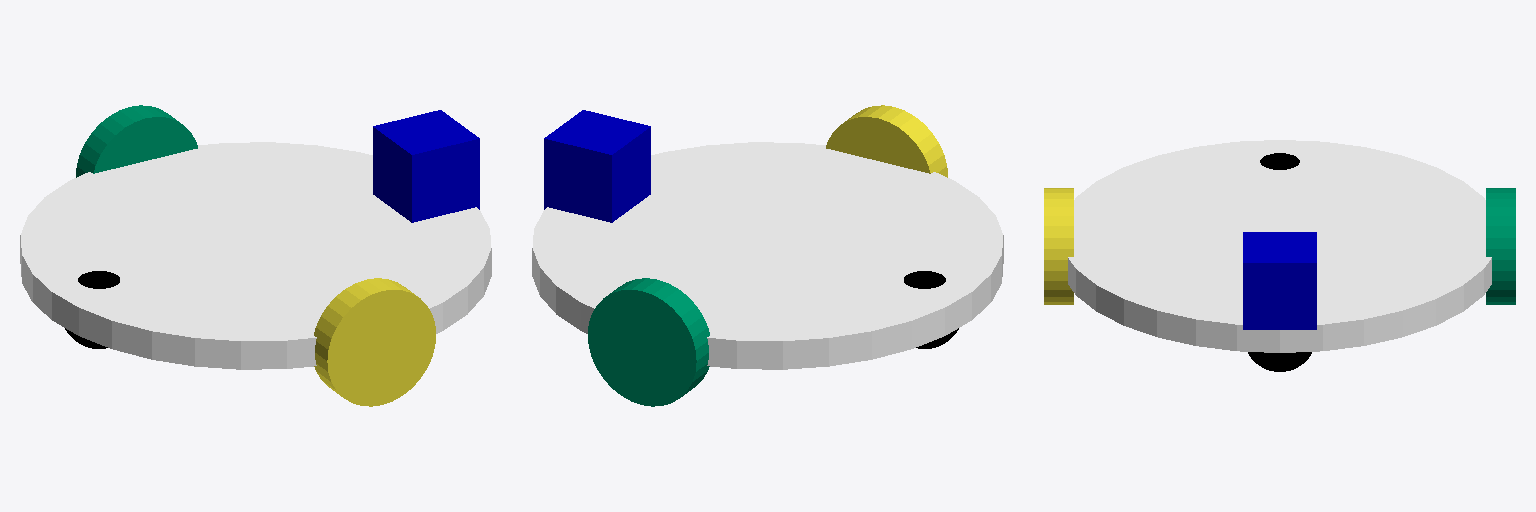
The robot description file, URDF, robot "differential_wheeled_robot":
<?xml version="1.0" ?>
<!-- =================================================================================== -->
<!-- |    This document was autogenerated by xacro from diff_wheeled_robot.xacro       | -->
<!-- |    EDITING THIS FILE BY HAND IS NOT RECOMMENDED                                 | -->
<!-- =================================================================================== -->
<robot name="differential_wheeled_robot" xmlns:xacro="http://www.ros.org/wiki/xacro">
  <!-- Wheels -->
  <!-- in kg-->
  <!-- Defining the colors used in this robot -->
  <material name="Black">
      <color rgba="0.0 0.0 0.0 1.0"/>
  </material>
  <material name="Red">
      <color rgba="0.8 0.0 0.0 1.0"/>
  </material>
  <material name="White">
      <color rgba="1.0 1.0 1.0 1.0"/>
  </material>
  <material name="Blue">
      <color rgba="0.0 0.0 0.8 1.0"/>
  </material>
  <!-- PROPERTY LIST -->
  <!--All units in m-kg-s-radians unit system -->
  <!-- Main body radius and height -->
  <!-- Main Body Cylinder base   -->
  <!-- in kg-->
  <!-- caster wheel radius and height -->
  <!-- caster wheel mass -->
  <!-- in kg-->
  <!-- caster wheel radius and height -->
  <!-- caster wheel mass -->
  <!-- in kg-->
  <!-- Wheels -->
  --&gt; 
  <!-- in kg-->
  <!-- Hokuyo Laser scanner -->
  <!-- Macro for calculating inertia of cylinder -->
  <!-- BASE-FOOTPRINT -->
  <!-- base_footprint is a fictitious link(frame) that is on the ground right below base_link origin -->
  <link name="base_footprint">
      <inertial>
          <mass value="0.0001"/>
          <origin xyz="0 0 0"/>
          <inertia ixx="0.0001" ixy="0.0" ixz="0.0" iyy="0.0001" iyz="0.0" izz="0.0001"/>
      </inertial>
      <visual>
          <origin rpy="0 0 0" xyz="0 0 0"/>
          <geometry>
              <box size="0.001 0.001 0.001"/>
          </geometry>
      </visual>
  </link>
  <gazebo reference="base_footprint">
      <turnGravityOff>false</turnGravityOff>
  </gazebo>
  <joint name="base_footprint_joint" type="fixed">
      <origin rpy="0 0 0" xyz="0 0 0.04"/>
      <parent link="base_footprint"/>
      <child link="base_link"/>
  </joint>
  <!-- BASE-LINK -->
  <!--Actual body/chassis of the robot-->
  <link name="base_link">
      <inertial>
          <mass value="5"/>
          <origin xyz="0 0 0"/>
          <!--The 3x3 rotational inertia matrix. -->
          <inertia ixx="0.0282916666667" ixy="0" ixz="0" iyy="0.0282916666667" iyz="0" izz="0.05625"/>
      </inertial>
      <visual>
          <origin rpy="0 0 0" xyz="0 0 0"/>
          <geometry>
              <cylinder length="0.02" radius="0.15"/>
          </geometry>
          <material name="White"/>
      </visual>
      <collision>
          <origin rpy="0 0 0 " xyz="0 0 0"/>
          <geometry>
              <cylinder length="0.02" radius="0.15"/>
          </geometry>
      </collision>
  </link>
  <gazebo reference="base_link">
      <material>Gazebo/White</material>
      <turnGravityOff>false</turnGravityOff>
  </gazebo>
  <!--fb : front, back ; lr: left, right -->
  <link name="front_right_wheel">
      <visual>
          <origin rpy="1.57079632679 0  0 " xyz="0 0 0"/>
          <geometry>
              <cylinder length="0.02" radius="0.04"/>
          </geometry>
          <material name="DarkGray"/>
      </visual>
      <collision>
          <origin rpy="1.57079632679 0 0 " xyz="0 0 0"/>
          <geometry>
              <cylinder length="0.02" radius="0.04"/>
          </geometry>
      </collision>
      <inertial>
          <mass value="2.5"/>
          <origin xyz="0 0 0"/>
          <inertia ixx="0.00108333333333" ixy="0" ixz="0" iyy="0.00108333333333" iyz="0" izz="0.002"/>
      </inertial>
  </link>
  <gazebo reference="front_right_wheel">
      <mu1 value="1.0"/>
      <mu2 value="1.0"/>
      <kp value="10000000.0"/>
      <kd value="1.0"/>
      <fdir1 value="1 0 0"/>
      <material>Gazebo/Grey</material>
      <turnGravityOff>false</turnGravityOff>
  </gazebo>
  <joint name="front_right_wheel_joint" type="continuous">
      <parent link="base_link"/>
      <child link="front_right_wheel"/>
      <origin rpy="0 0 0" xyz="0.0 0.15 0.0"/>
      <axis rpy="0  0" xyz="0 1 0"/>
      <limit effort="100" velocity="100"/>
      <joint_properties damping="0.0" friction="0.0"/>
  </joint>
  <!-- Transmission is important to link the joints and the controller -->
  <transmission name="front_right_wheel_joint_trans">
      <type>transmission_interface/SimpleTransmission</type>
      <joint name="front_right_wheel_joint"/>
      <actuator name="front_right_wheel_joint_motor">
          <hardwareInterface>EffortJointInterface</hardwareInterface>
          <mechanicalReduction>1</mechanicalReduction>
      </actuator>
  </transmission>
  <!--fb : front, back ; lr: left, right -->
  <link name="front_left_wheel">
      <visual>
          <origin rpy="1.57079632679 0  0 " xyz="0 0 0"/>
          <geometry>
              <cylinder length="0.02" radius="0.04"/>
          </geometry>
          <material name="DarkGray"/>
      </visual>
      <collision>
          <origin rpy="1.57079632679 0 0 " xyz="0 0 0"/>
          <geometry>
              <cylinder length="0.02" radius="0.04"/>
          </geometry>
      </collision>
      <inertial>
          <mass value="2.5"/>
          <origin xyz="0 0 0"/>
          <inertia ixx="0.00108333333333" ixy="0" ixz="0" iyy="0.00108333333333" iyz="0" izz="0.002"/>
      </inertial>
  </link>
  <gazebo reference="front_left_wheel">
      <mu1 value="1.0"/>
      <mu2 value="1.0"/>
      <kp value="10000000.0"/>
      <kd value="1.0"/>
      <fdir1 value="1 0 0"/>
      <material>Gazebo/Grey</material>
      <turnGravityOff>false</turnGravityOff>
  </gazebo>
  <joint name="front_left_wheel_joint" type="continuous">
      <parent link="base_link"/>
      <child link="front_left_wheel"/>
      <origin rpy="0 0 0" xyz="0.0 -0.15 0.0"/>
      <axis rpy="0  0" xyz="0 1 0"/>
      <limit effort="100" velocity="100"/>
      <joint_properties damping="0.0" friction="0.0"/>
  </joint>
  <!-- Transmission is important to link the joints and the controller -->
  <transmission name="front_left_wheel_joint_trans">
      <type>transmission_interface/SimpleTransmission</type>
      <joint name="front_left_wheel_joint"/>
      <actuator name="front_left_wheel_joint_motor">
          <hardwareInterface>EffortJointInterface</hardwareInterface>
          <mechanicalReduction>1</mechanicalReduction>
      </actuator>
  </transmission>
  <!--Caster front  -->
  <link name="caster_front_link">
      <visual>
          <origin rpy="1.57079632679 0 0" xyz="0 0.02 0"/>
          <geometry>
              <sphere radius="0.025"/>
          </geometry>
          <material name="Black"/>
      </visual>
      <collision>
          <geometry>
              <sphere radius="0.025"/>
          </geometry>
          <origin rpy="1.57079632679 0 0" xyz="0 0.02 0"/>
      </collision>
      <inertial>
          <mass value="0.5"/>
          <origin xyz="0 0 0"/>
          <inertia ixx="0.001" ixy="0.0" ixz="0.0" iyy="0.001" iyz="0.0" izz="0.001"/>
      </inertial>
  </link>
  <joint name="caster_front_joint" type="fixed">
      <parent link="base_link"/>
      <child link="caster_front_link"/>
      <origin rpy="-1.57079632679 0 0" xyz="0.115 0.0 0.007"/>
  </joint>
  <gazebo reference="caster_front_link">
      <turnGravityOff>false</turnGravityOff>
  </gazebo>
  <!--Caster back  -->
  <link name="caster_back_link">
      <visual>
          <origin rpy="1.57079632679 0 0" xyz="0.02 0.02 0 "/>
          <geometry>
              <sphere radius="0.025"/>
          </geometry>
          <material name="Black"/>
      </visual>
      <collision>
          <geometry>
              <sphere radius="0.025"/>
          </geometry>
          <origin rpy="1.57079632679 0 0" xyz="0 0.02 0 "/>
      </collision>
      <inertial>
          <mass value="0.5"/>
          <origin xyz="0 0 0"/>
          <inertia ixx="0.001" ixy="0.0" ixz="0.0" iyy="0.001" iyz="0.0" izz="0.001"/>
      </inertial>
  </link>
  <joint name="caster_back_joint" type="fixed">
      <parent link="base_link"/>
      <child link="caster_back_link"/>
      <origin rpy="-1.57079632679 0 0" xyz="-0.135 0.0 0.009"/>
  </joint>
  <gazebo reference="caster_back_link">
      <turnGravityOff>false</turnGravityOff>
  </gazebo>
  <!-- SENSORS -->
  <!-- hokuyo -->
  <link name="hokuyo_link">
      <visual>
          <origin rpy="0 0 0" xyz="0 0 0"/>
          <geometry>
              <box size="0.05 0.05 0.05"/>
          </geometry>
          <material name="Blue"/>
      </visual>
  </link>
  <joint name="hokuyo_joint" type="fixed">
      <origin rpy="0 0 0" xyz="0.125 0 0.0325"/>
      <parent link="base_link"/>
      <child link="hokuyo_link"/>
  </joint>
    
   
  <gazebo>
      <plugin name="encoder" filename="libencoder.so">
          <jointName>front_right_wheel_joint</jointName>
          <topicName>diff_encoder</topicName>
      </plugin>
  </gazebo>

</robot>

--- Facts derived from the render (not from the file) ---
Views: 3 orthographic renders of the robot side by side, from view 1: azimuth 30°, elevation 25°; view 2: azimuth 150°, elevation 25°; view 3: azimuth 270°, elevation 25°.
Model differential_wheeled_robot with 7 links and 6 joints (2 continuous, 4 fixed), rooted at base_footprint, posed all joints at 0.
Links seen in each view (by area): view 1: base_link, front_left_wheel, hokuyo_link, front_right_wheel, caster_back_link; view 2: base_link, front_right_wheel, hokuyo_link, front_left_wheel, caster_back_link; view 3: base_link, hokuyo_link, front_right_wheel, front_left_wheel, caster_front_link, caster_back_link.
Link boxes in pixels (<box>): base_link: <box>20,142,491,369</box>; front_left_wheel: <box>314,278,435,406</box>; hokuyo_link: <box>373,110,479,222</box>; front_right_wheel: <box>76,105,197,177</box>; caster_back_link: <box>65,271,119,348</box>; base_link: <box>532,142,1003,369</box>; front_right_wheel: <box>588,278,709,406</box>; hokuyo_link: <box>544,110,650,222</box>; front_left_wheel: <box>826,105,947,177</box>; caster_back_link: <box>904,271,958,348</box>; base_link: <box>1068,140,1491,352</box>; hokuyo_link: <box>1243,232,1316,329</box>; front_right_wheel: <box>1486,188,1515,304</box>; front_left_wheel: <box>1044,188,1073,304</box>; caster_front_link: <box>1248,352,1311,371</box>; caster_back_link: <box>1260,153,1299,169</box>.
Bounding box of the posed robot: 0.3 × 0.32 × 0.098 m (x, y, z).
Geometry: primitives only (box / cylinder / sphere), no mesh files.